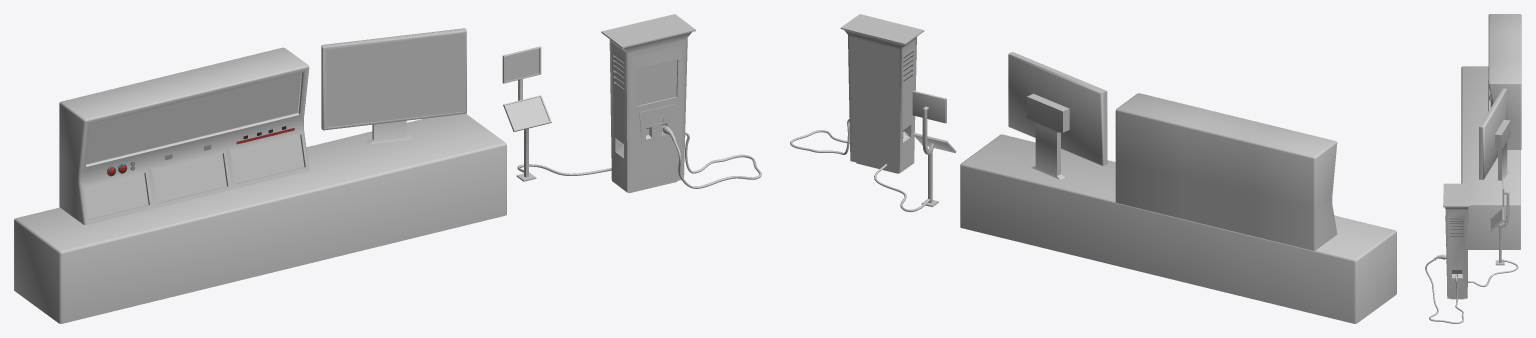
Rendered from Props2.fbx.
3 renders of one model, left to right at view 1: azimuth 30°, elevation 25°; view 2: azimuth 150°, elevation 25°; view 3: azimuth 270°, elevation 25°, orthographic. The views are drawn at different scales.
Parts seen in each view (by area): view 1: MesaPaneles, Panel1, Panel2, Planta, Panel4, CableCargador; view 2: MesaPaneles, Panel1, Planta, Panel2, Panel4, CableCargador; view 3: MesaPaneles, Panel1, Planta, Panel2, Panel4, CableCargador, Cable1.
Boxes of the visible parts, x1,y1,x2,y2 form: MesaPaneles: [14, 113, 506, 323]; Panel1: [59, 47, 309, 225]; Panel2: [321, 28, 466, 144]; Planta: [601, 14, 695, 193]; Panel4: [502, 46, 551, 181]; CableCargador: [673, 132, 761, 188]; MesaPaneles: [960, 134, 1396, 323]; Panel1: [1115, 93, 1337, 250]; Planta: [840, 14, 924, 173]; Panel2: [1008, 52, 1107, 179]; Panel4: [912, 90, 956, 206]; CableCargador: [790, 119, 849, 154]; MesaPaneles: [1461, 66, 1520, 249]; Panel1: [1488, 14, 1521, 149]; Planta: [1443, 183, 1470, 299]; Panel2: [1479, 88, 1510, 183]; Panel4: [1489, 177, 1509, 265]; CableCargador: [1425, 259, 1463, 323]; Cable1: [1468, 259, 1518, 286].
Bounding box in the file's own units: 921 × 231 × 176.
